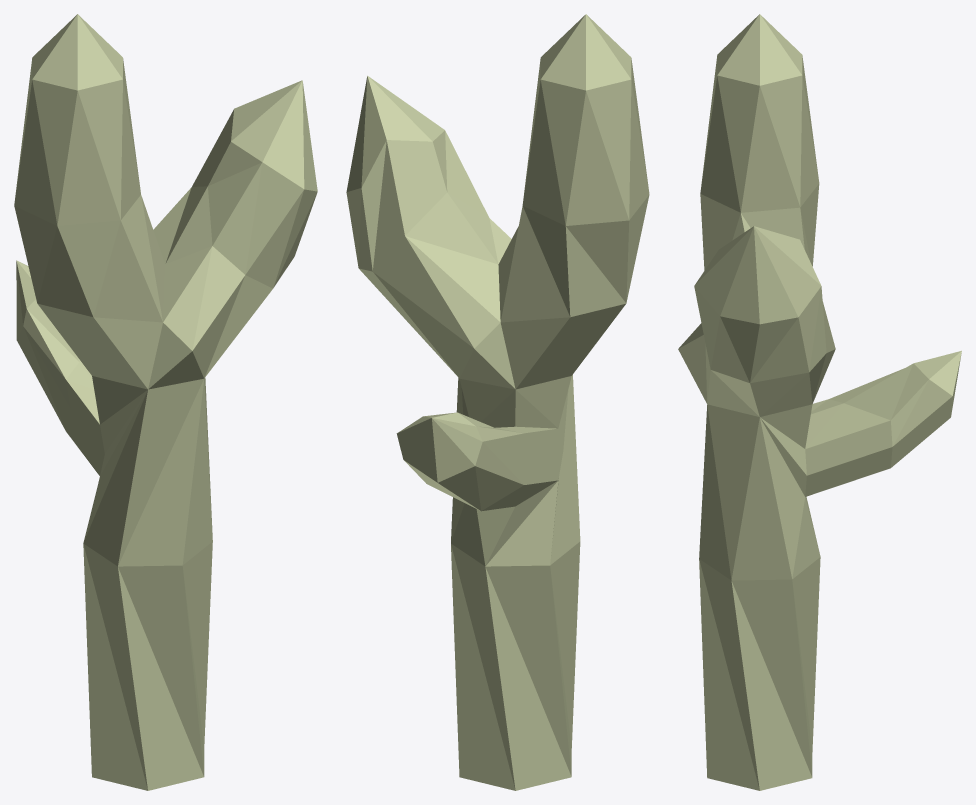
File: kaktussi02.fbx
3 views of the same model, side by side, from view 1: azimuth 30°, elevation 25°; view 2: azimuth 150°, elevation 25°; view 3: azimuth 270°, elevation 25° (orthographic). The views are drawn at different scales.
Visible parts, largest first — view 1: pCylinder26; view 2: pCylinder26; view 3: pCylinder26.
Boxes of the visible parts, x1,y1,x2,y2 form: pCylinder26: [14, 14, 317, 790]; pCylinder26: [346, 14, 649, 790]; pCylinder26: [678, 14, 961, 790].
Size of the model in its own units: 0.0256 by 0.0653 by 0.0234.
